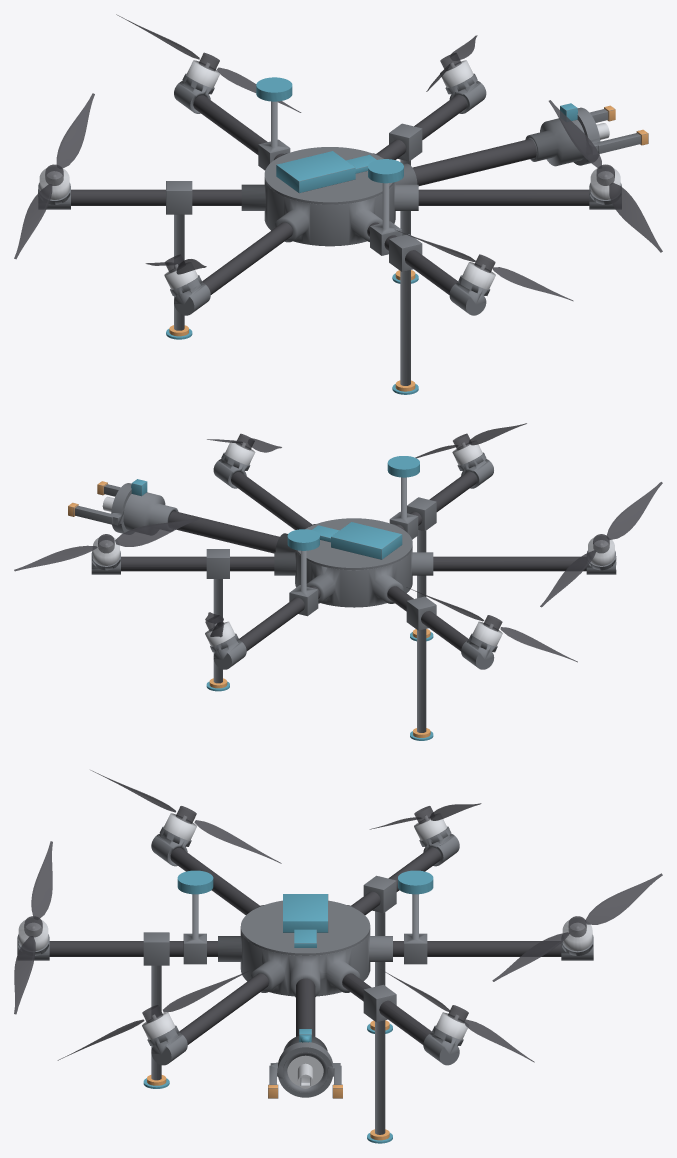
The model's file is menoetius.glb.
3 renders of one model, top to bottom at view 1: azimuth 30°, elevation 25°; view 2: azimuth 150°, elevation 25°; view 3: azimuth 270°, elevation 25°, orthographic. The views are drawn at different scales.
Parts seen in each view (by area): view 1: Menoetius V1; view 2: Menoetius V1; view 3: Menoetius V1.
Boxes of the visible parts, <box> form: Menoetius V1: <box>14,14,662,394</box>; Menoetius V1: <box>14,423,662,740</box>; Menoetius V1: <box>14,770,662,1143</box>.
Bounding box in the file's own units: 1.02 × 0.3605 × 1.
